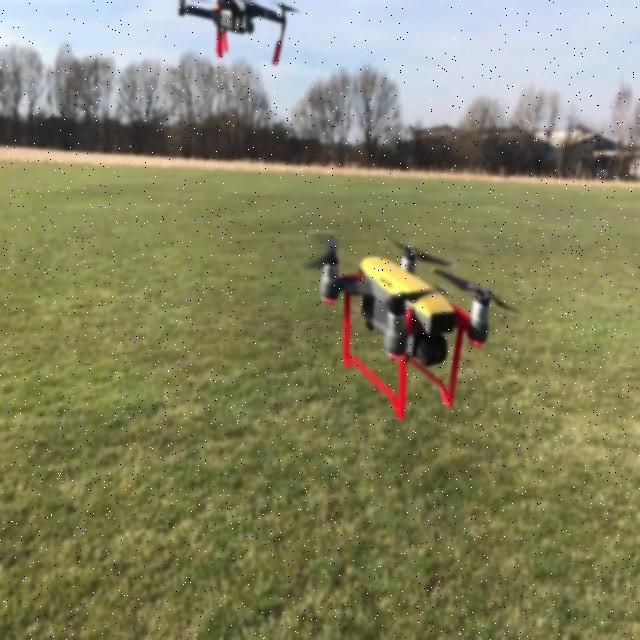UAV: (300, 230, 520, 422), (178, 0, 301, 66)
